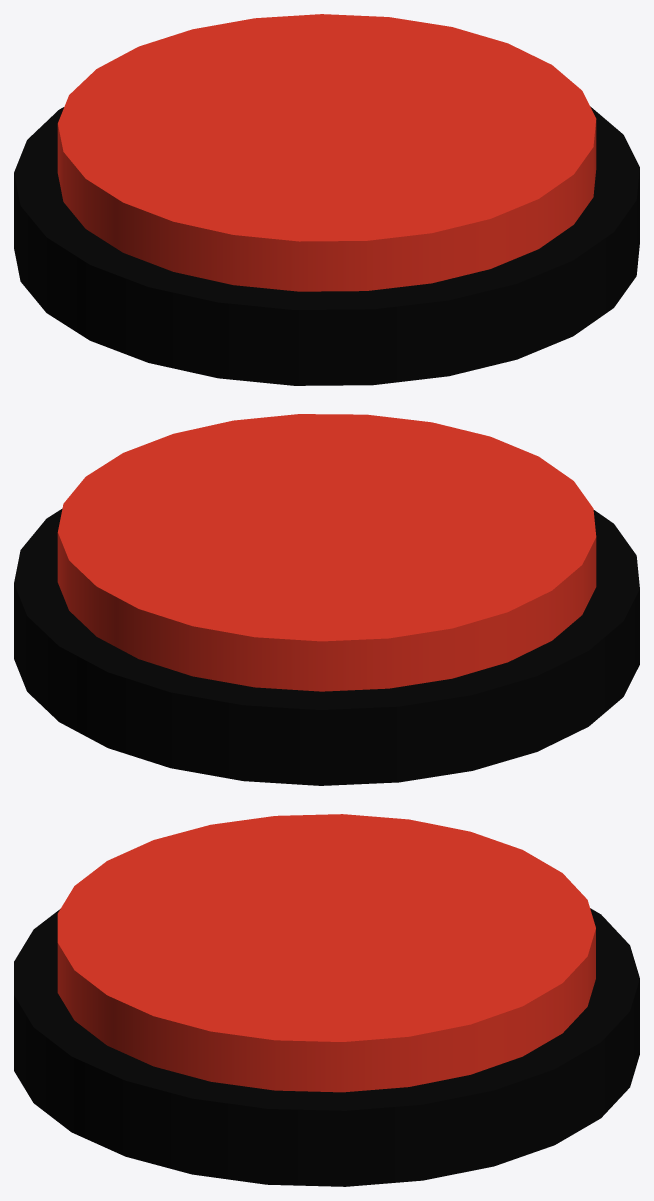
Rendered from knop3.fbx.
3 views of the same model, one above another, from view 1: azimuth 30°, elevation 25°; view 2: azimuth 150°, elevation 25°; view 3: azimuth 270°, elevation 25° (orthographic).
Parts seen in each view (by area): view 1: Cylinder; view 2: Cylinder; view 3: Cylinder.
Boxes of the visible parts, x1,y1,x2,y2 form: Cylinder: (14,14,639,385); Cylinder: (14,414,639,785); Cylinder: (14,814,639,1186).
Bounding box in the file's own units: 18.08 × 4.01 × 18.04.
